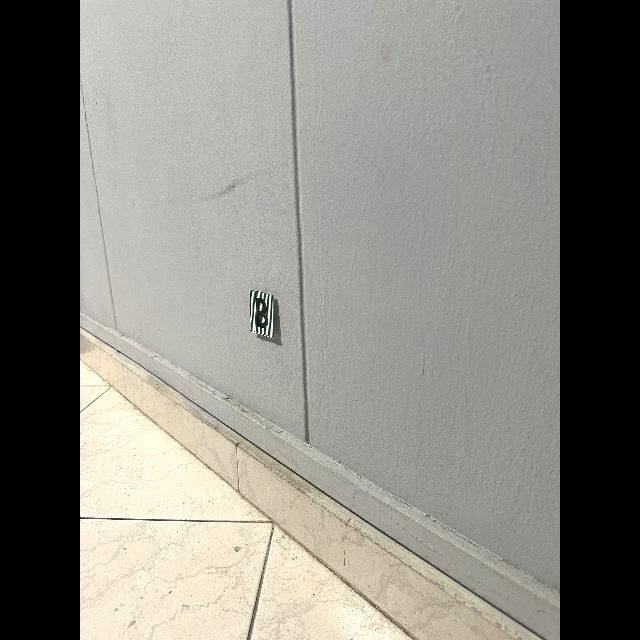B: (256, 297, 269, 328)
